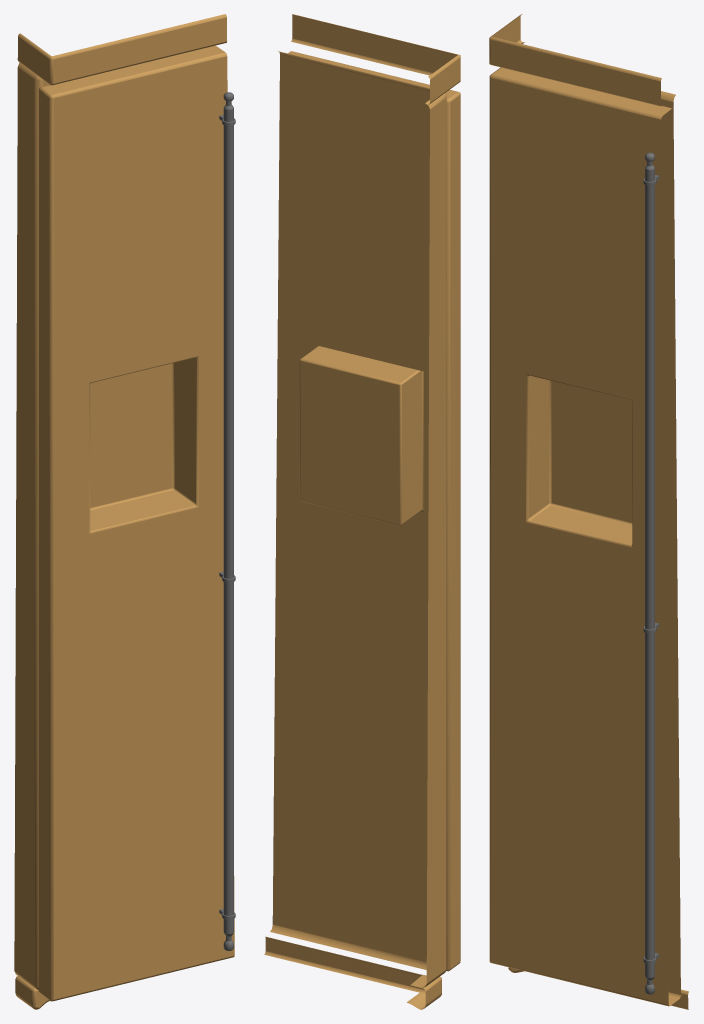
Rendered from 131Left.obj.
The picture shows the model from 3 angles, left to right: view 1: azimuth 30°, elevation 25°; view 2: azimuth 150°, elevation 25°; view 3: azimuth 330°, elevation 25°; orthographic projection. The views are drawn at different scales.
Visible parts, largest first — view 1: 131.001; view 2: 131.001; view 3: 131.001.
Part boxes in pixels (x1,y1,x2,y2): 131.001: (14,14,235,1009); 131.001: (264,14,460,1009); 131.001: (489,14,688,1009).
Size of the model in its own units: 0.3577 by 1.8 by 0.1565.
